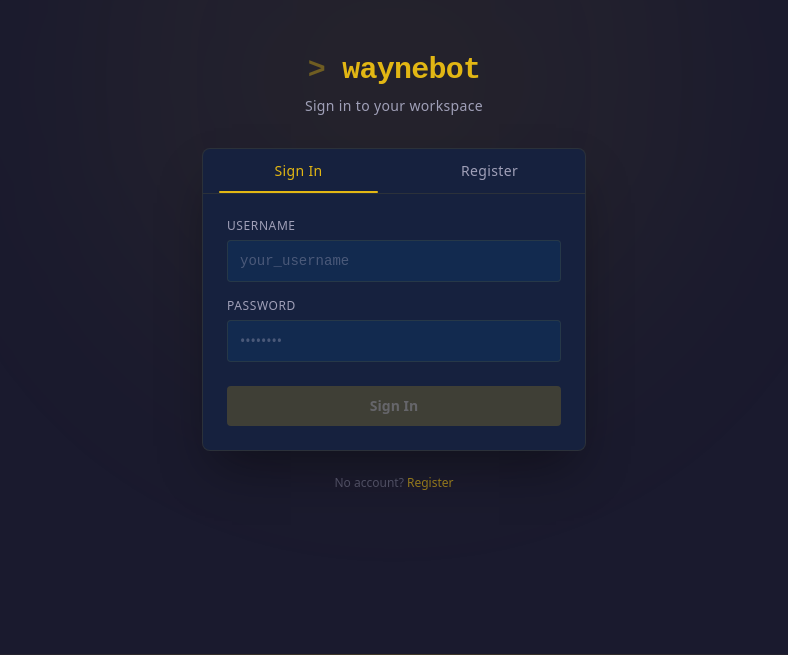
Test: LoginPage › toggles back to login mode
The image size is (788, 655).
Click the button with test id "tab-register".
click(490, 170)  # box [394,148,585,192]
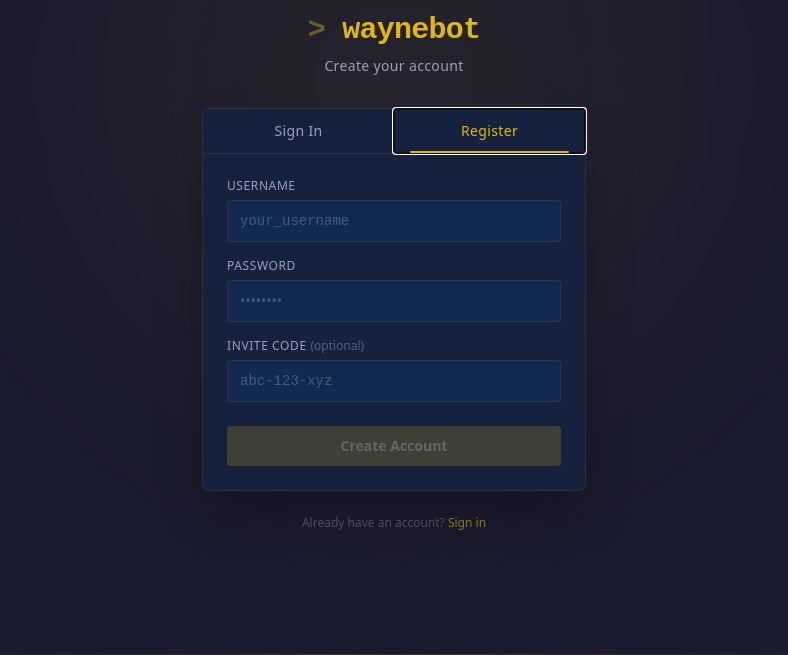
Click the button with test id "tab-login".
click(298, 130)  # box [203,108,394,152]
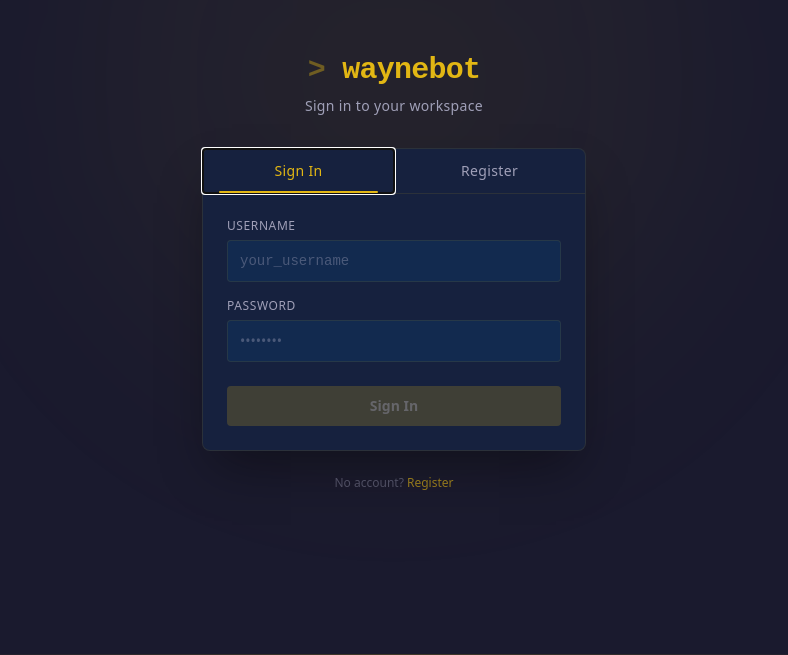
Expected: the text "Sign in to your workspace" is shown, [305,96,483,114]
Expected: the label labelled "Invite Code" is gone
